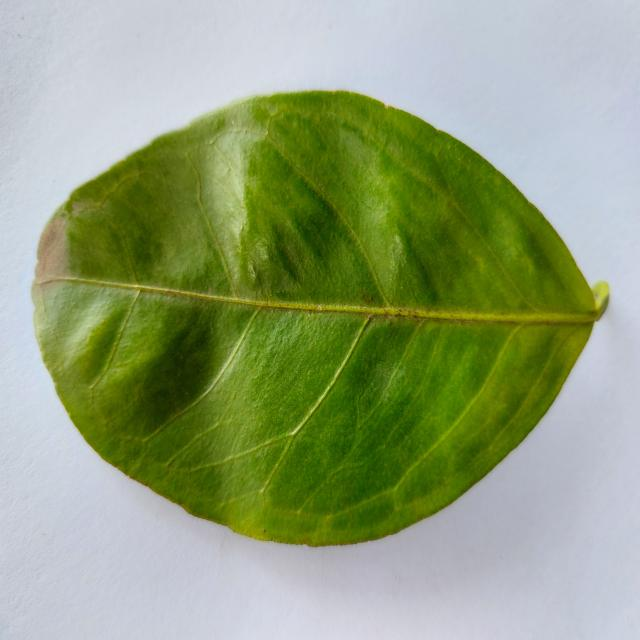greening: (32, 92, 607, 545)
